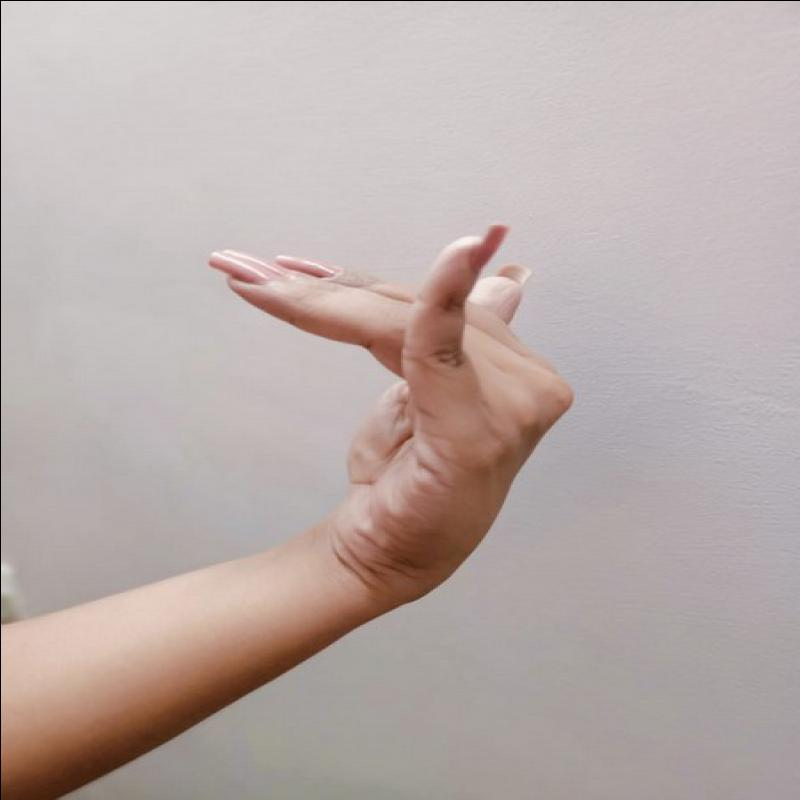Kartharee Mukham: (202, 181, 585, 592)
